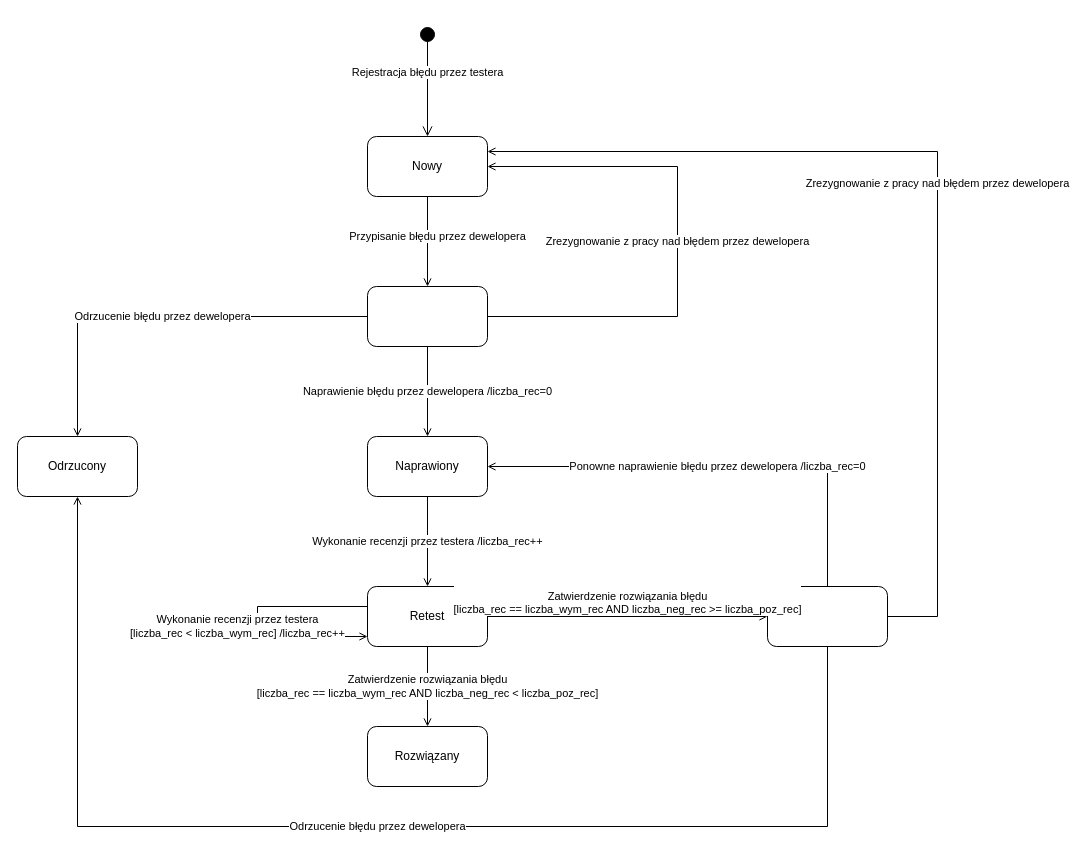
Image size: 1087x852. Some labels were removed from this diagram. The shapes that lost their labels are listed below. From the top down, each one's centre as x and y in pixels, then its label:
the point at 427,316: W toku
the point at 827,616: Niezatwierdzony
